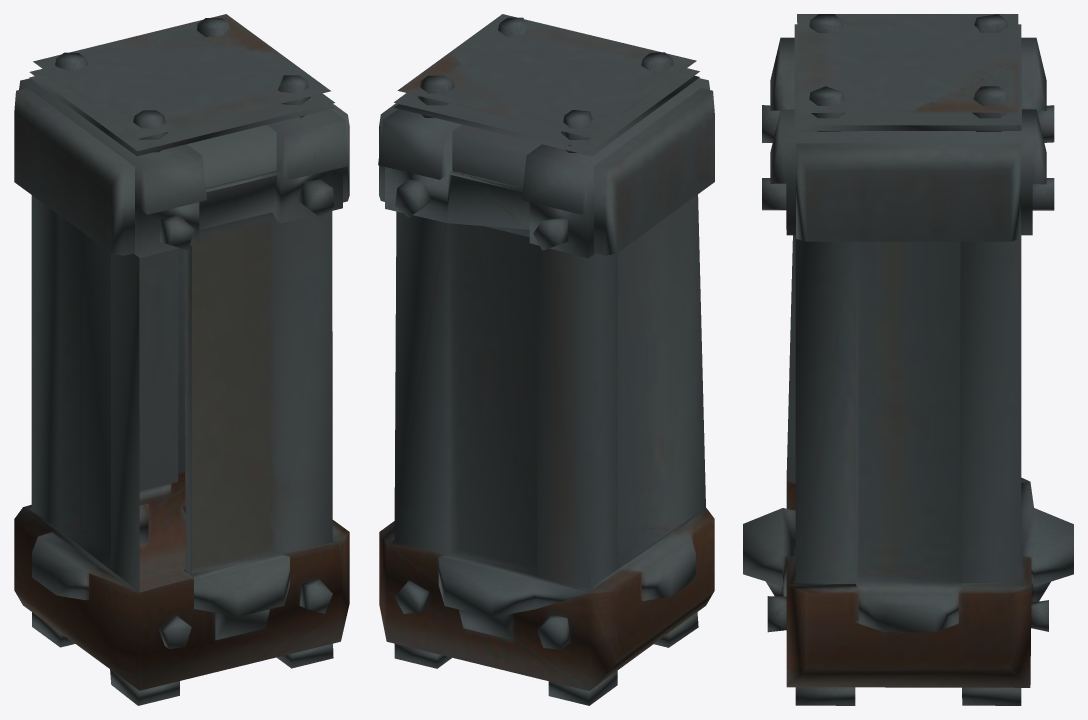
The picture shows the model from 3 angles, left to right: view 1: azimuth 30°, elevation 25°; view 2: azimuth 150°, elevation 25°; view 3: azimuth 270°, elevation 25°; orthographic projection. The views are drawn at different scales.
Size of the model in its own units: 2 by 4 by 2.
1 material, 1 textured.
